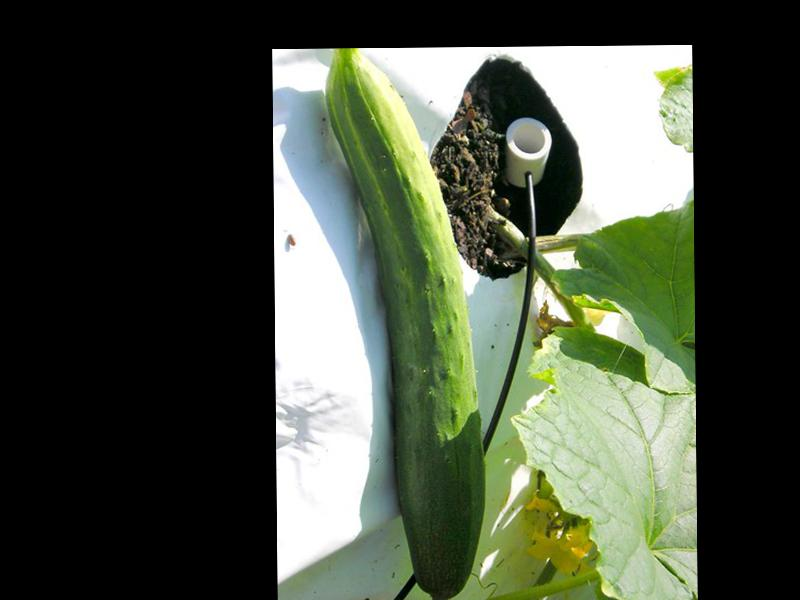Cucumber: (325, 47, 485, 600)
